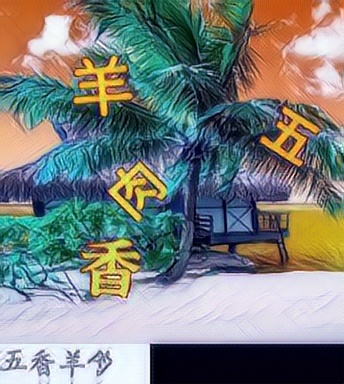C8E2: (105, 159, 167, 223)
CEE5: (259, 104, 321, 168)
CFE3: (78, 235, 140, 299)
D1F2: (70, 56, 132, 120)
